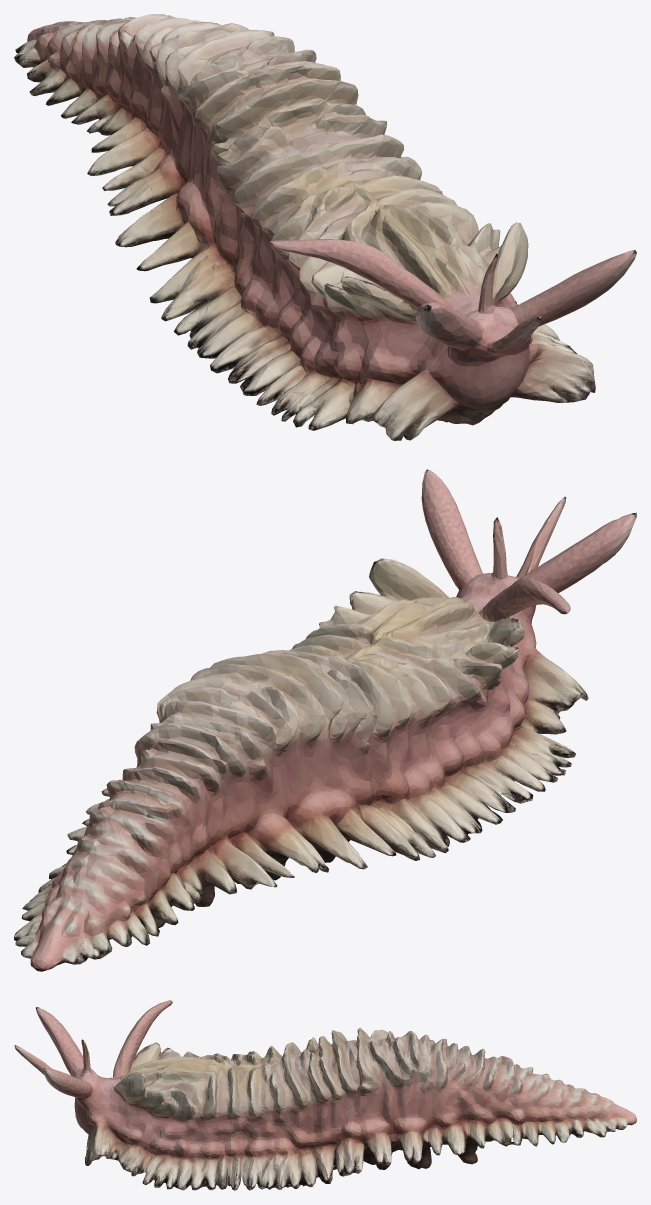
The picture shows the model from 3 angles, top to bottom: view 1: azimuth 30°, elevation 25°; view 2: azimuth 150°, elevation 25°; view 3: azimuth 270°, elevation 25°; orthographic projection. The views are drawn at different scales.
Visible parts, largest first — view 1: world; view 2: world; view 3: world.
Part boxes in pixels (left/top/right/bottom): world: left=14, top=14, right=636, bottom=440; world: left=14, top=469, right=636, bottom=971; world: left=14, top=1000, right=636, bottom=1190.
Bounding box in the file's own units: 0.3348 × 0.2246 × 1.
Materials: 1 (1 with a texture image).
